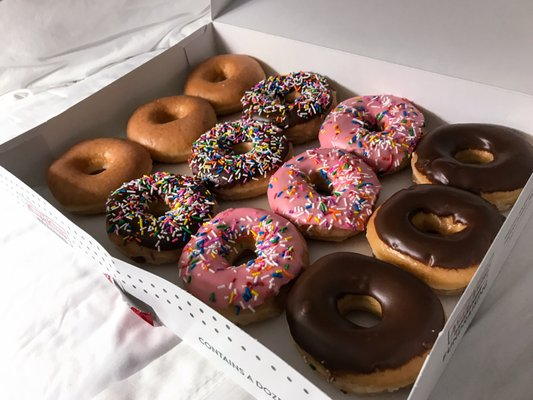curry: (27, 1, 533, 400)
salad: (285, 251, 446, 396), (178, 207, 309, 327), (365, 184, 504, 295), (103, 170, 218, 266), (267, 147, 383, 242), (411, 122, 533, 200), (318, 93, 426, 176), (189, 118, 291, 201), (46, 137, 153, 215), (239, 70, 339, 146), (127, 94, 218, 165), (183, 53, 266, 117)
